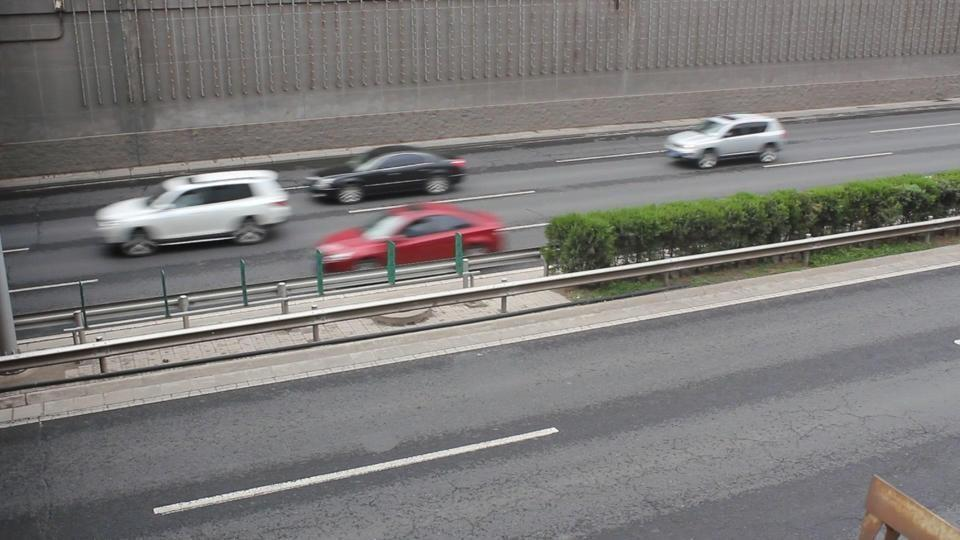car: (94, 170, 293, 258), (313, 201, 509, 274), (301, 149, 467, 205), (663, 114, 786, 169)
